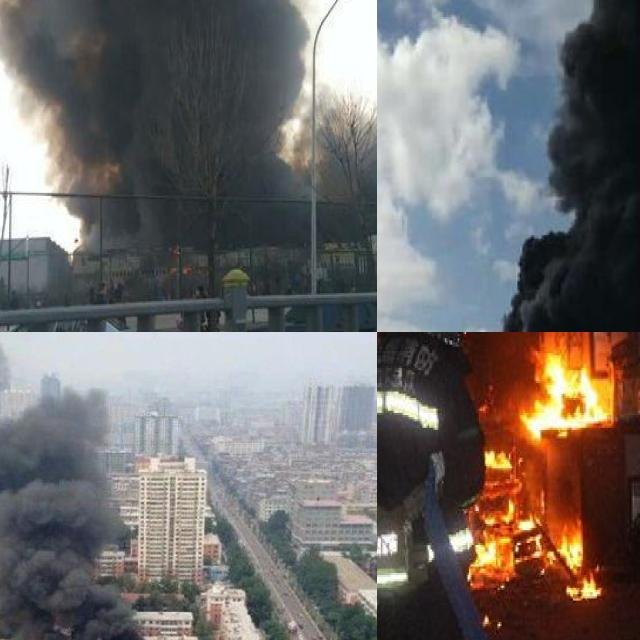fire: (465, 390, 610, 594), (516, 347, 608, 436)
smoke: (0, 0, 377, 240), (465, 0, 640, 332), (0, 332, 140, 640)
